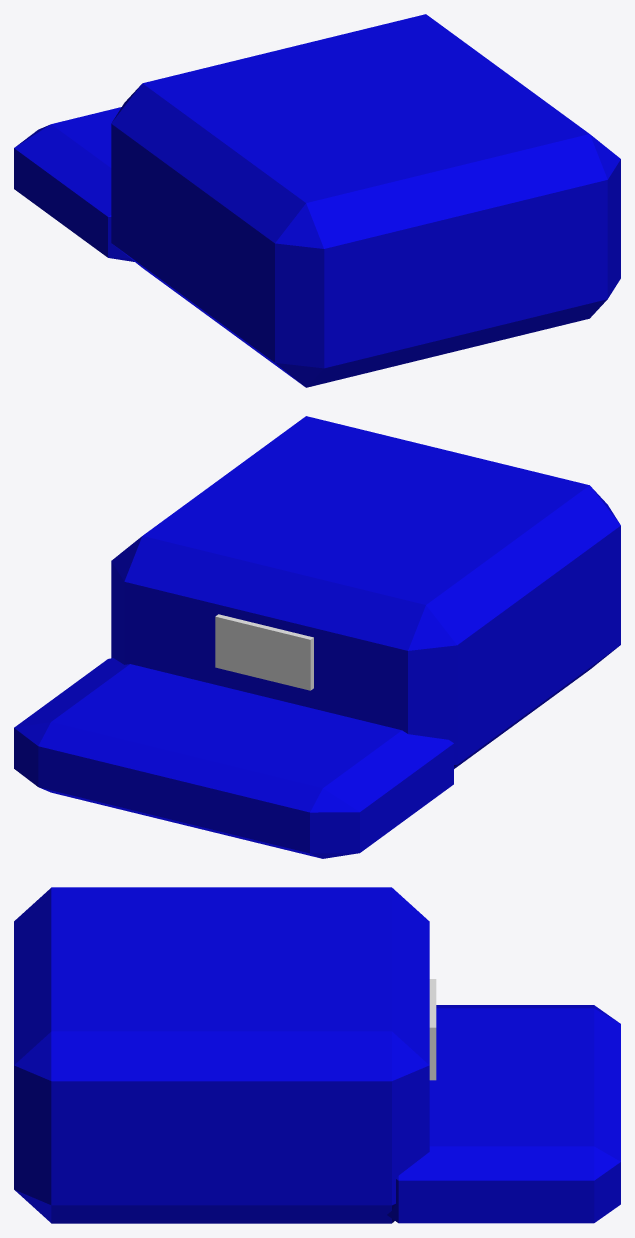
Rendered from КЕПКАfbx.fbx.
The picture shows the model from 3 angles, top to bottom: view 1: azimuth 30°, elevation 25°; view 2: azimuth 150°, elevation 25°; view 3: azimuth 270°, elevation 25°; orthographic projection. The views are drawn at different scales.
Visible parts, largest first — view 1: Cube, Cube.001; view 2: Cube, Cube.001, Cube.002; view 3: Cube, Cube.001, Cube.002.
Boxes of the visible parts, bbox=[...] form: Cube: bbox=[111, 14, 620, 387]; Cube.001: bbox=[14, 107, 134, 261]; Cube: bbox=[111, 416, 620, 768]; Cube.001: bbox=[14, 658, 453, 858]; Cube.002: bbox=[215, 614, 313, 690]; Cube: bbox=[14, 887, 429, 1223]; Cube.001: bbox=[387, 1005, 620, 1223]; Cube.002: bbox=[429, 979, 436, 1080].
Size of the model in its own units: 227 by 116 by 332.
